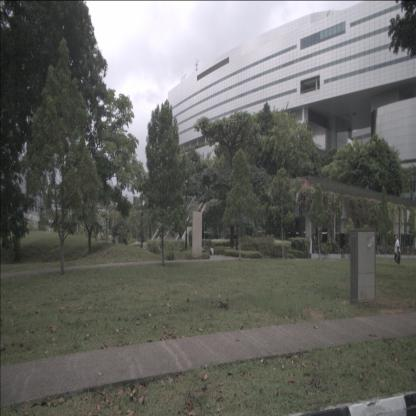human-pedestrian-adult: (394, 235, 401, 264)
